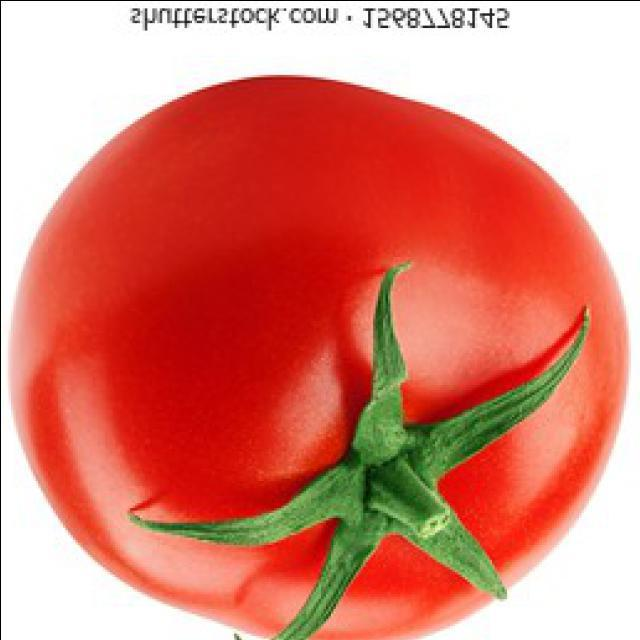Tomato: (5, 76, 633, 640)
